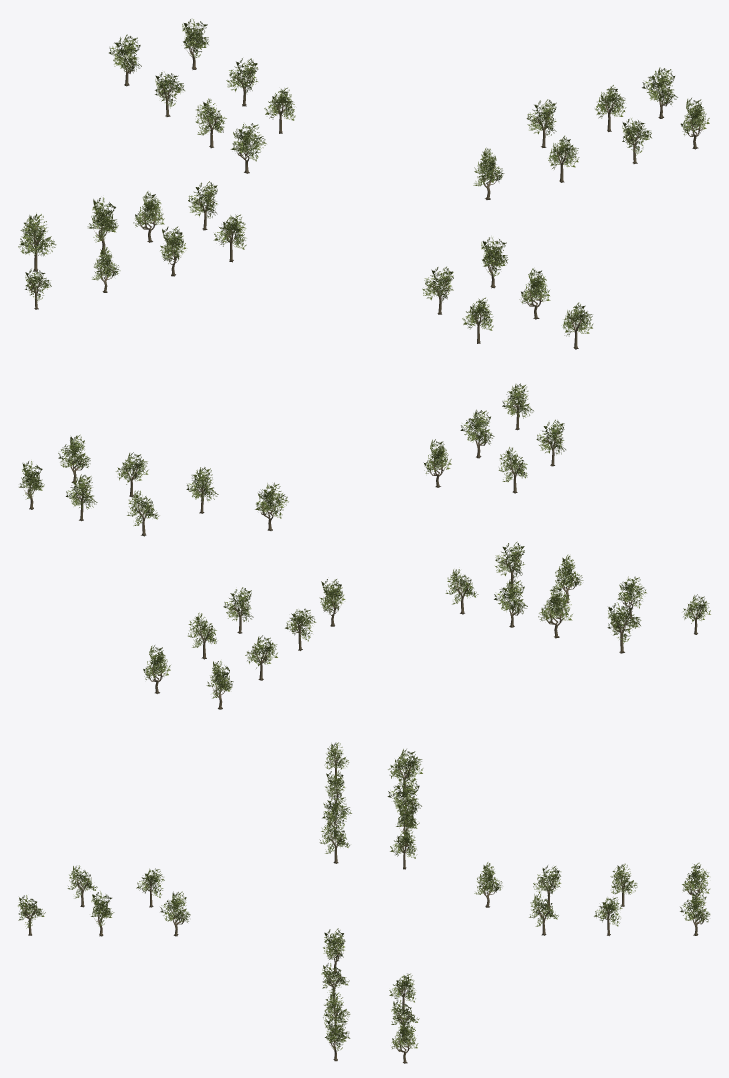
Rendered from arboles.glb.
3 renders of one model, top to bottom at view 1: azimuth 30°, elevation 25°; view 2: azimuth 150°, elevation 25°; view 3: azimuth 270°, elevation 25°, orthographic. The views are drawn at different scales.
Parts seen in each view (by area): view 1: Branches-material.004, Branches-material.019, Branches-material.008, Branches-material.005, Branches-material.011, Branches-material.021, Branches-material.007, Branches-material.025, Branches-material.018, Branches-material, Branches-material.013, Branches-material.006 (+13 smaller); view 2: Branches-material.005, Branches-material.004, Branches-material.006, Branches-material.027, Branches-material.018, Branches-material.015, Branches-material, Branches-material.017, Branches-material.020, Branches-material.012, Branches-material.024, Branches-material.028 (+13 smaller); view 3: Branches-material.005, Branches-material.004, Branches-material.026, Branches-material.014, Branches-material.001, Branches-material.
Boxes of the visible parts, <box> form: Branches-material.004: <box>18,213,56,256</box>; Branches-material.019: <box>642,67,677,104</box>; Branches-material.008: <box>230,123,266,161</box>; Branches-material.005: <box>87,197,118,242</box>; Branches-material.011: <box>109,34,141,73</box>; Branches-material.021: <box>526,99,556,135</box>; Branches-material.007: <box>188,181,217,218</box>; Branches-material.025: <box>422,266,453,302</box>; Branches-material.018: <box>473,147,504,186</box>; Branches-material: <box>213,214,246,249</box>; Branches-material.013: <box>226,58,258,93</box>; Branches-material.006: <box>133,191,164,228</box>; Branches-material.005: <box>538,584,572,623</box>; Branches-material.004: <box>607,602,641,644</box>; Branches-material.006: <box>494,579,527,614</box>; Branches-material.027: <box>460,409,494,444</box>; Branches-material.018: <box>255,482,288,518</box>; Branches-material.015: <box>58,434,90,469</box>; Branches-material: <box>495,541,524,577</box>; Branches-material.017: <box>186,467,218,500</box>; Branches-material.020: <box>66,474,97,509</box>; Branches-material.012: <box>223,587,253,621</box>; Branches-material.024: <box>536,419,565,454</box>; Branches-material.028: <box>502,383,533,418</box>; Branches-material.005: <box>387,777,421,813</box>; Branches-material.004: <box>388,749,423,784</box>; Branches-material.026: <box>160,891,190,923</box>; Branches-material.014: <box>680,891,710,923</box>; Branches-material.001: <box>322,795,351,828</box>; Branches-material: <box>319,819,349,853</box>.
Bounding box in the file's own units: 152 × 12.21 × 152.
2 materials, 2 textured.
